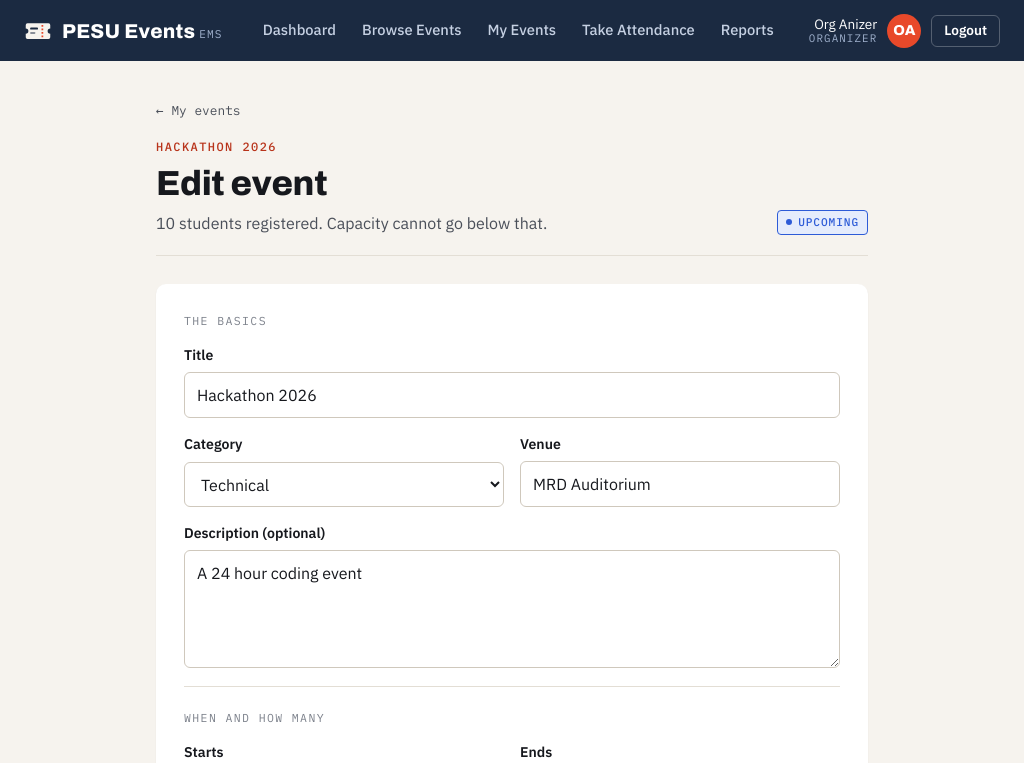
Edit Event › TC-EVENT-04: saving sends only the changed fields
This screenshot has width=1024, height=763.
Step 1. Replace the text in the field labelled "Venue" with "Room 2" → (680, 484), box [520,461,840,507]
(page scrolled)
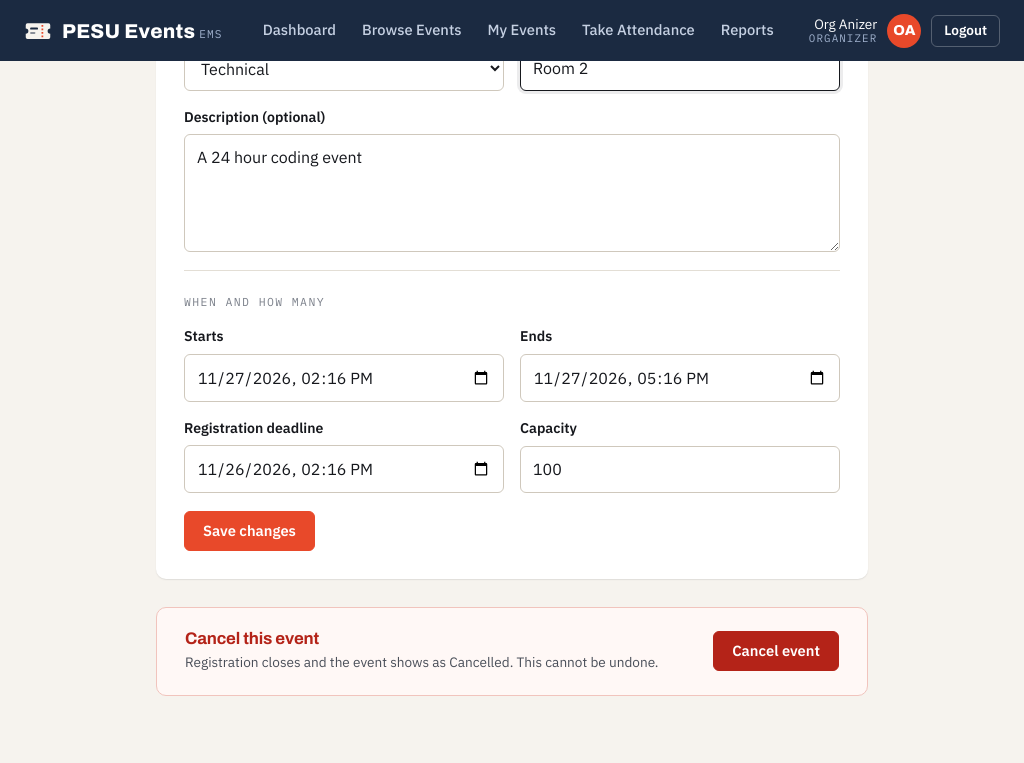
Step 2. Click the button "Save changes" → (250, 531), box [184,511,315,551]
(page scrolled)
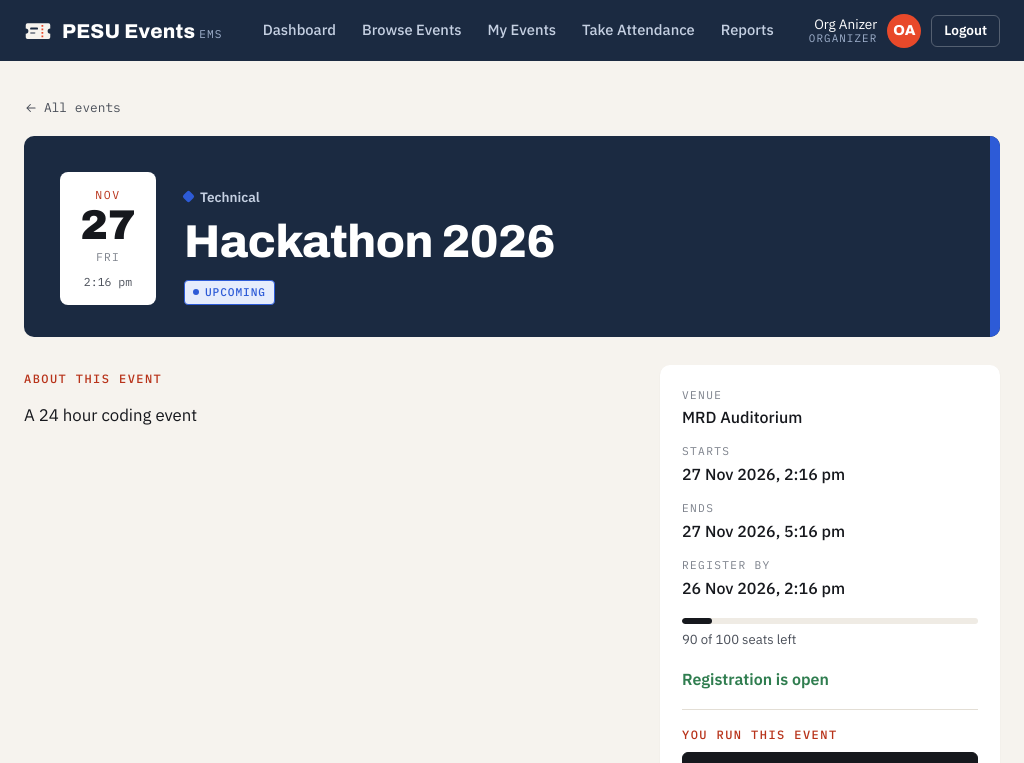
expect the heading "Hackathon 2026" is shown: met, box [184,217,555,268]
